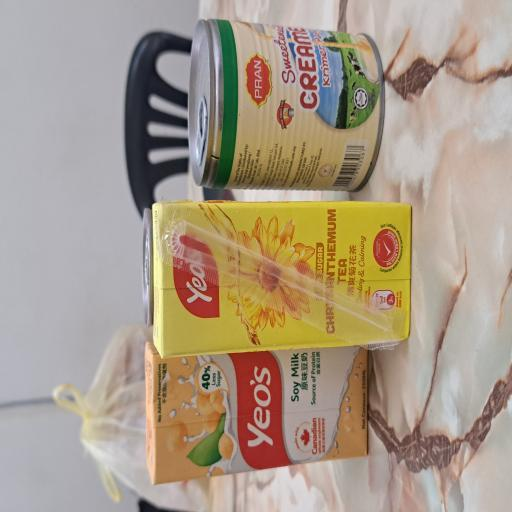can: (243, 249, 370, 511)
drink carton: (115, 201, 234, 512), (19, 191, 129, 491)
